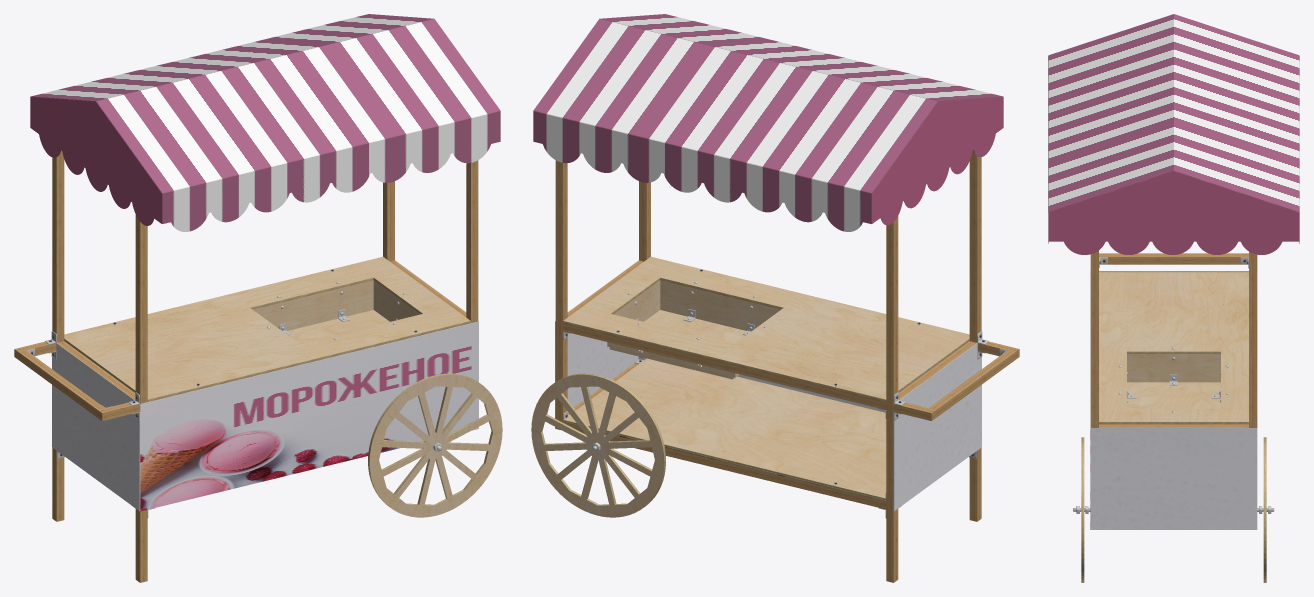
The picture shows the model from 3 angles, left to right: view 1: azimuth 30°, elevation 25°; view 2: azimuth 150°, elevation 25°; view 3: azimuth 270°, elevation 25°; orthographic projection. The views are drawn at different scales.
Parts seen in each view (by area): view 1: Плоскость.058, Плоскость.052, STOL.012, KOLESO.018, Плоскость.053, Плоскость.056, Плоскость.055, Куб.226, Куб.230, Куб.249, Куб.233, Куб.252 (+3 smaller); view 2: Плоскость.055, STOL.015, STOL.012, KOLESO.017, Плоскость.053, Плоскость.056, Плоскость.058, Куб.226, Куб.230, Куб.248, Куб.229, Куб.227 (+7 smaller); view 3: Плоскость.055, Плоскость.058, STOL.012, Плоскость.054, Плоскость.057, Куб.251, Куб.252, Куб.222, Куб.233, Куб.229, Куб.235, KOLESO.017 (+1 smaller).
Part boxes in pixels (<box>): Плоскость.058: <box>96,19,500,231</box>; Плоскость.052: <box>140,321,478,511</box>; STOL.012: <box>64,256,470,401</box>; KOLESO.018: <box>368,373,502,517</box>; Плоскость.053: <box>52,343,140,511</box>; Плоскость.056: <box>30,97,161,225</box>; Плоскость.055: <box>30,14,433,101</box>; Куб.226: <box>52,150,64,521</box>; Куб.230: <box>135,215,147,582</box>; Куб.249: <box>253,280,373,330</box>; Куб.233: <box>466,160,478,323</box>; Куб.252: <box>287,310,389,343</box>; Плоскость.055: <box>533,19,937,231</box>; STOL.015: <box>563,358,886,501</box>; STOL.012: <box>563,256,969,401</box>; KOLESO.017: <box>531,373,665,517</box>; Плоскость.053: <box>893,343,981,511</box>; Плоскость.056: <box>872,97,1003,225</box>; Плоскость.058: <box>599,14,1003,101</box>; Куб.226: <box>886,216,898,582</box>; Куб.230: <box>969,150,981,521</box>; Куб.248: <box>660,280,780,330</box>; Куб.229: <box>555,160,567,430</box>; Куб.227: <box>563,323,886,409</box>; Плоскость.055: <box>1174,14,1299,243</box>; Плоскость.058: <box>1048,14,1173,243</box>; STOL.012: <box>1099,272,1248,424</box>; Плоскость.054: <box>1090,428,1257,529</box>; Плоскость.057: <box>1049,171,1298,254</box>; Куб.251: <box>1127,354,1220,382</box>; Куб.252: <box>1127,382,1220,408</box>; Куб.222: <box>1099,253,1248,264</box>; Куб.233: <box>1090,250,1098,427</box>; Куб.229: <box>1249,252,1257,427</box>; Куб.235: <box>1099,424,1248,427</box>; KOLESO.017: <box>1263,437,1266,582</box>.
Size of the model in its own units: 2.08 by 2.26 by 1.2.
